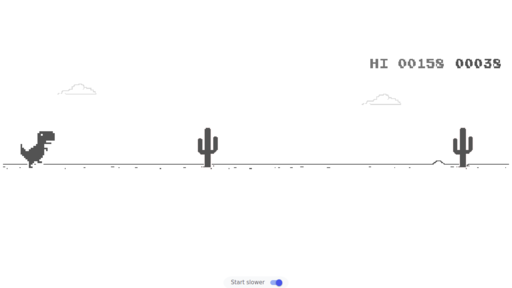dino: (21, 130, 55, 168)
tree: (197, 127, 218, 168), (452, 128, 474, 167)
